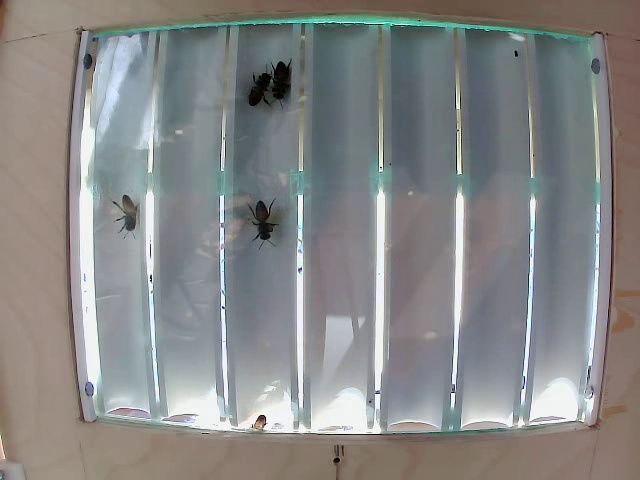bee: (103, 191, 154, 233), (240, 204, 278, 242), (273, 60, 298, 115), (245, 61, 269, 114)
